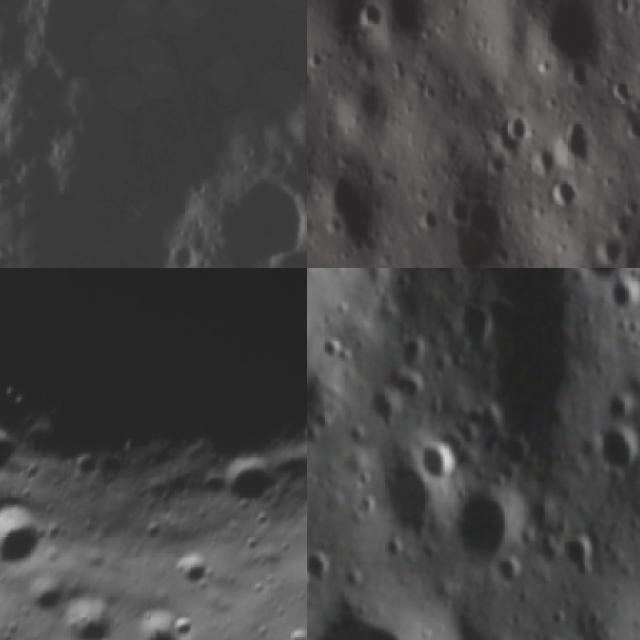crater: (0, 0, 307, 216), (210, 161, 307, 268), (370, 458, 440, 548), (317, 171, 392, 252), (307, 593, 434, 640), (0, 490, 64, 579), (214, 448, 290, 522), (523, 0, 606, 65), (455, 484, 522, 564), (50, 582, 124, 640), (592, 424, 640, 482), (556, 107, 600, 168), (168, 542, 219, 593), (560, 531, 603, 583), (491, 549, 533, 596), (132, 603, 183, 640), (416, 437, 458, 480), (367, 388, 407, 430), (0, 411, 22, 485), (607, 278, 640, 324), (307, 546, 342, 588), (499, 104, 539, 140), (289, 402, 307, 467), (604, 392, 636, 428), (357, 0, 388, 33), (550, 172, 579, 202)
